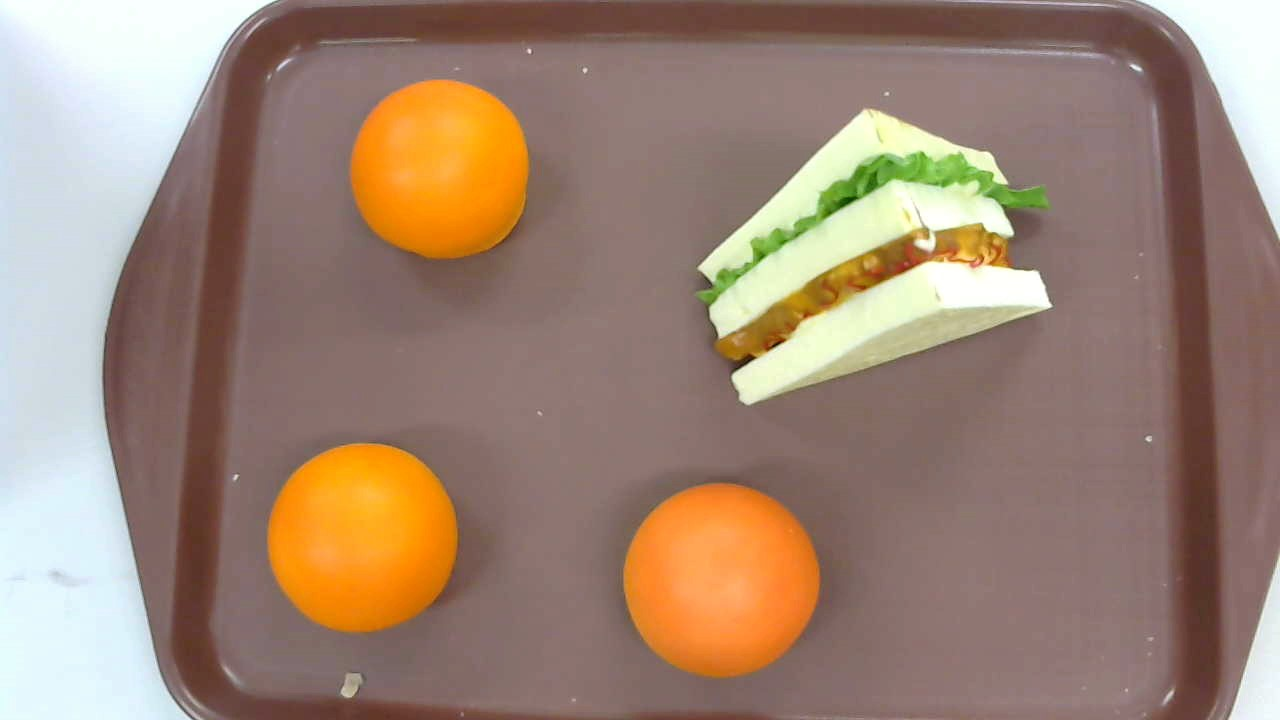bun: (622, 483, 819, 678), (266, 441, 458, 634), (349, 78, 530, 259)
sandwich: (697, 106, 1053, 406)
